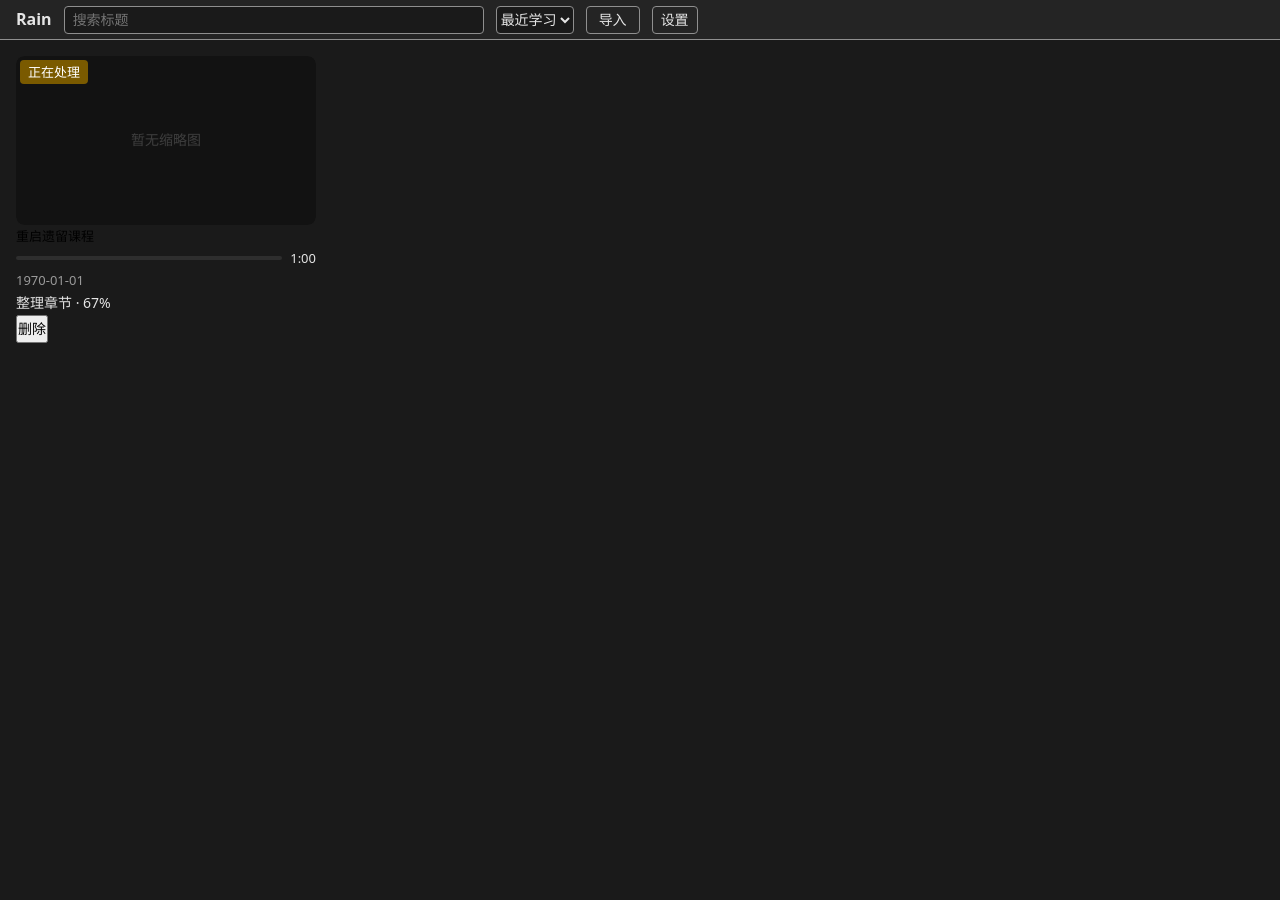
AC-LV-19 and AC-LV-20 import task details › cancels a persisted processing task even when its in-memory owner is gone
The width and height of the screenshot is (1280, 900).
Click the text "重启遗留课程": (55, 236) x1=16 y1=227 x2=94 y2=245
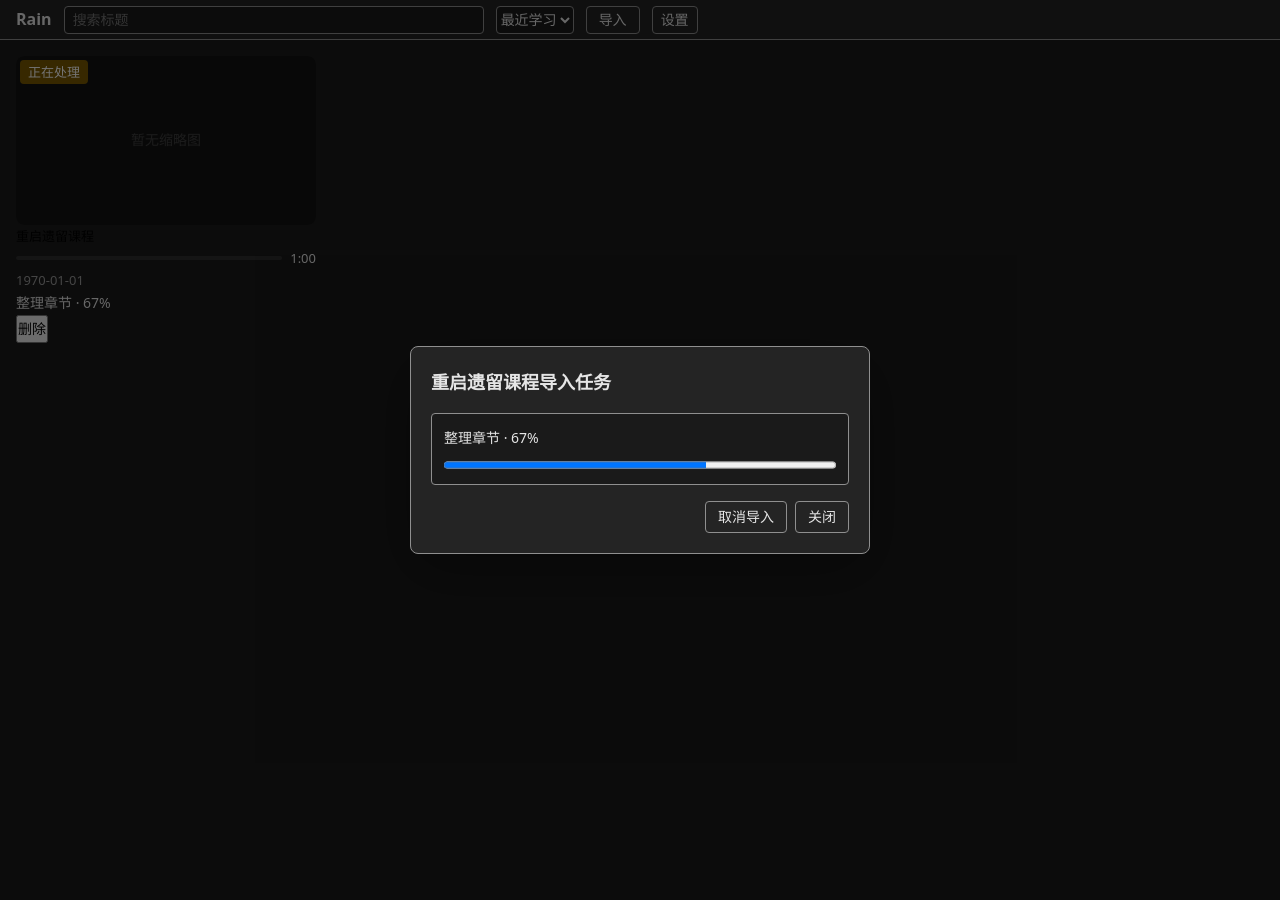
Click the button "取消导入": (746, 517) x1=705 y1=501 x2=787 y2=533
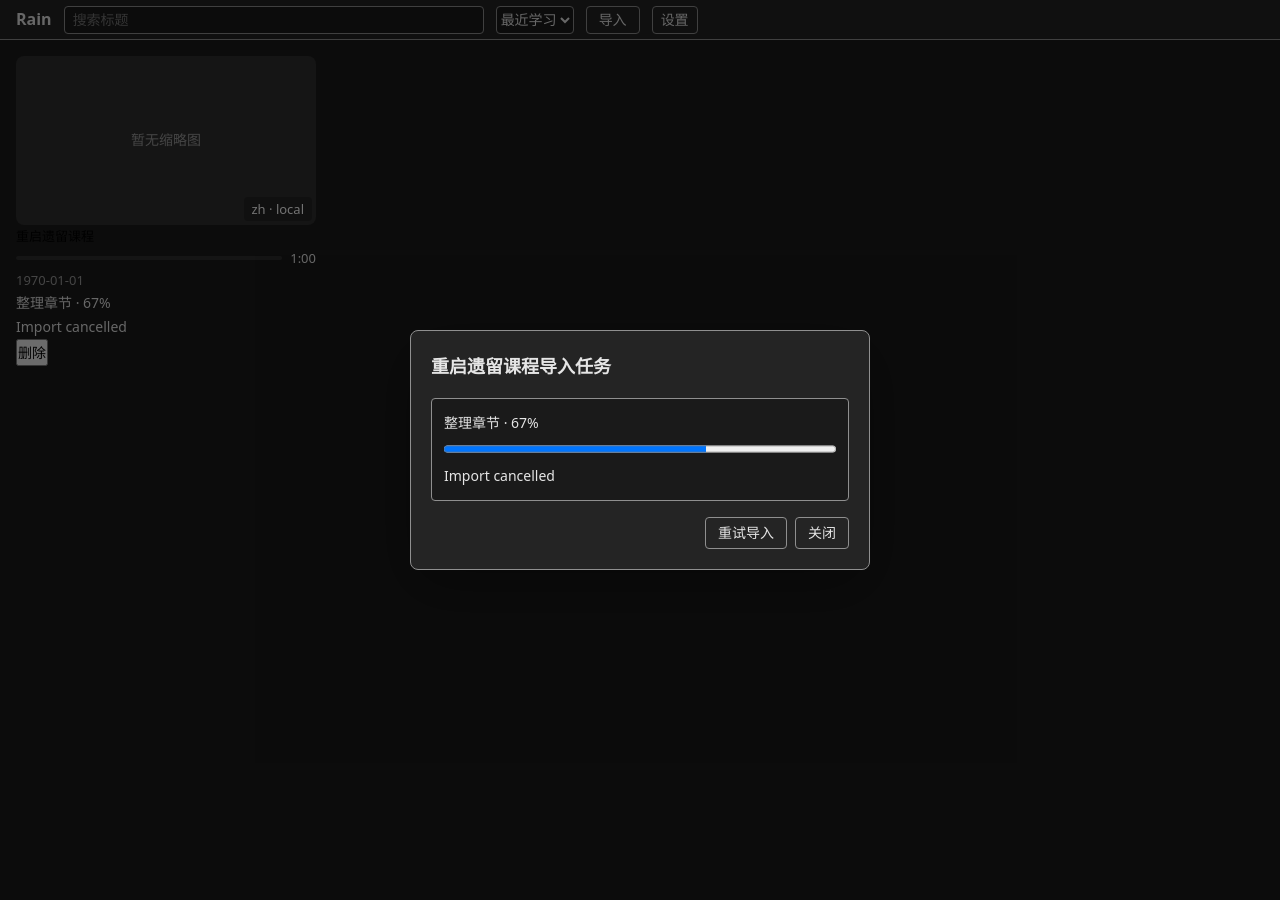
Check: the button "重试导入" is shown, box x1=705 y1=517 x2=787 y2=549
Check: the message reads "Import cancelled", box x1=444 y1=466 x2=555 y2=485
